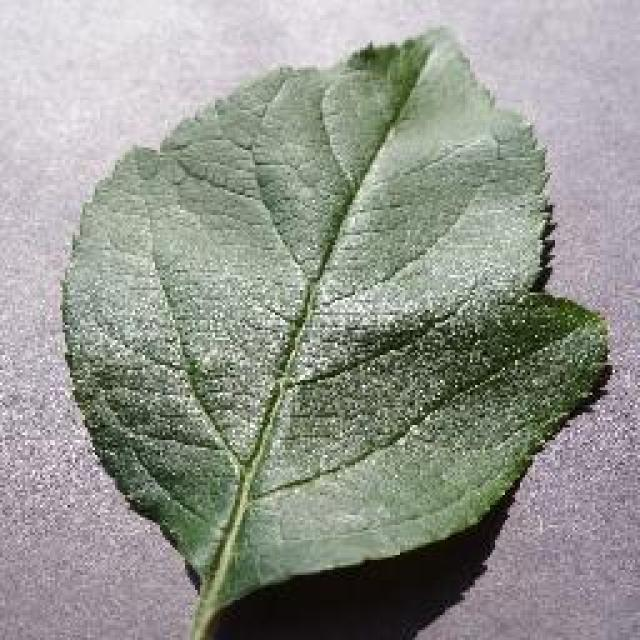apple healthy: (55, 22, 613, 638)
